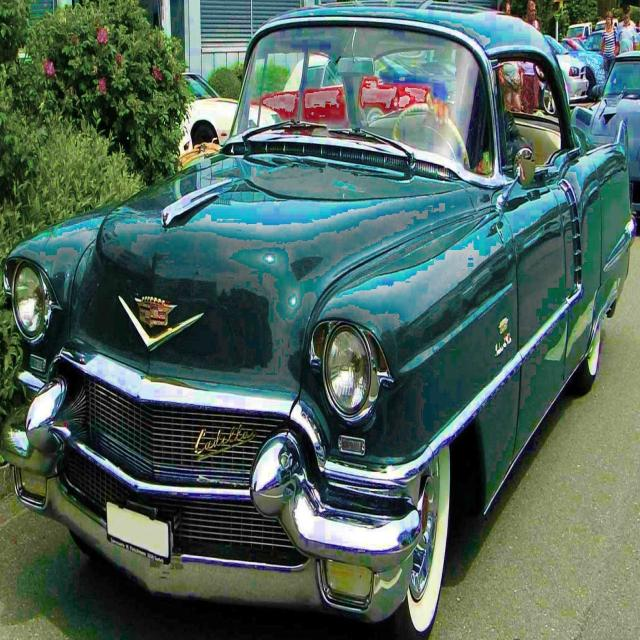green: (5, 9, 635, 634)
